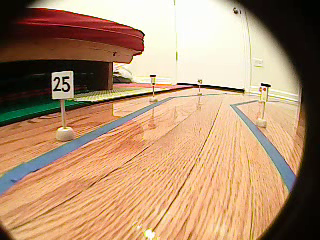Green Traffic Light: (149, 74, 158, 88)
Red Traffic Light: (259, 83, 269, 104)
Speed Limit 25: (52, 72, 74, 98)
